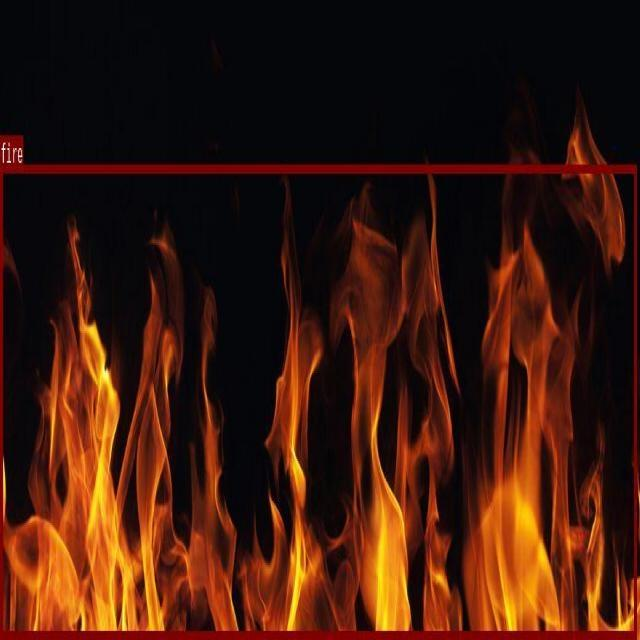fire: (0, 163, 636, 636)
